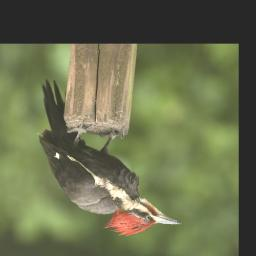Woodpecker: (26, 76, 185, 243)
